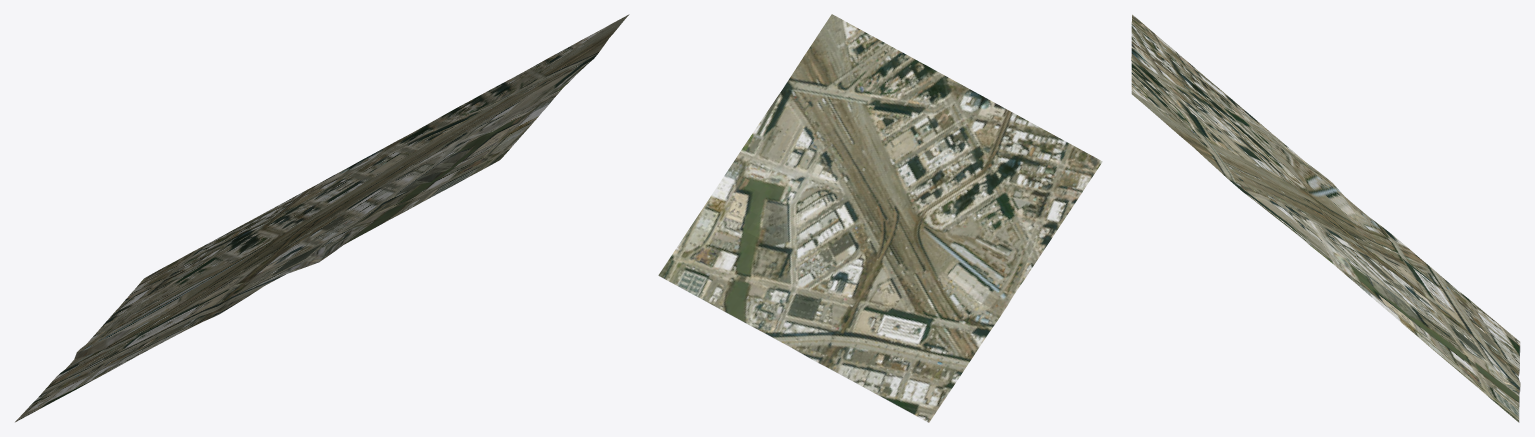
The picture shows the model from 3 angles, left to right: view 1: azimuth 30°, elevation 25°; view 2: azimuth 150°, elevation 25°; view 3: azimuth 270°, elevation 25°; orthographic projection. The views are drawn at different scales.
Size of the model in its own units: 1058 by 833 by 704.
Materials: 1 (1 with a texture image).
